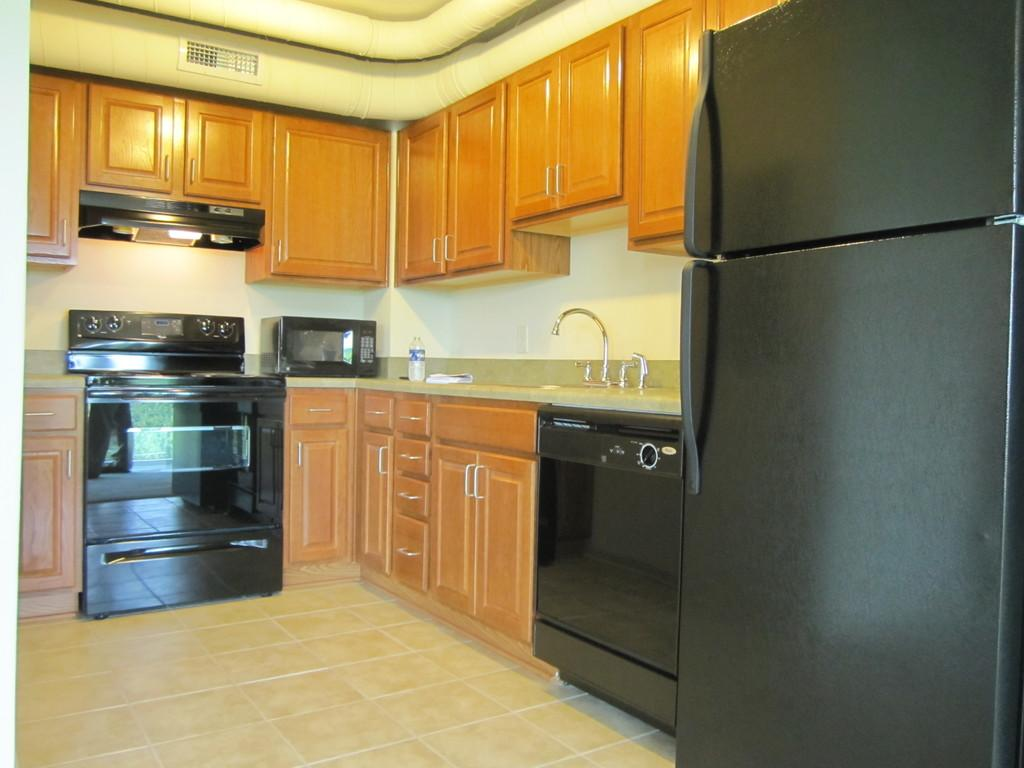cabinet_door: (273, 122, 388, 268), (630, 38, 694, 226), (559, 61, 625, 204), (86, 90, 172, 186), (446, 118, 502, 264), (180, 106, 266, 198), (481, 460, 531, 616), (18, 443, 72, 584), (28, 86, 70, 255), (399, 127, 445, 273), (294, 435, 344, 558), (508, 94, 558, 210), (435, 452, 471, 598), (366, 442, 390, 564), (294, 394, 348, 424), (396, 523, 422, 574), (398, 481, 430, 522), (17, 399, 67, 421), (398, 447, 426, 479), (369, 400, 393, 423), (402, 410, 424, 430)
handle: (680, 271, 708, 478), (684, 104, 706, 246), (456, 463, 478, 506), (470, 458, 488, 502), (551, 161, 569, 195), (183, 154, 201, 188), (395, 544, 428, 562), (60, 446, 78, 479), (23, 410, 60, 424), (376, 444, 390, 480), (59, 209, 72, 244), (162, 148, 172, 189), (294, 437, 308, 466), (308, 404, 339, 416), (402, 415, 422, 432), (542, 166, 554, 194), (399, 492, 423, 506), (399, 456, 423, 468), (274, 244, 288, 264), (444, 236, 455, 259), (370, 407, 392, 418), (432, 244, 442, 266)
